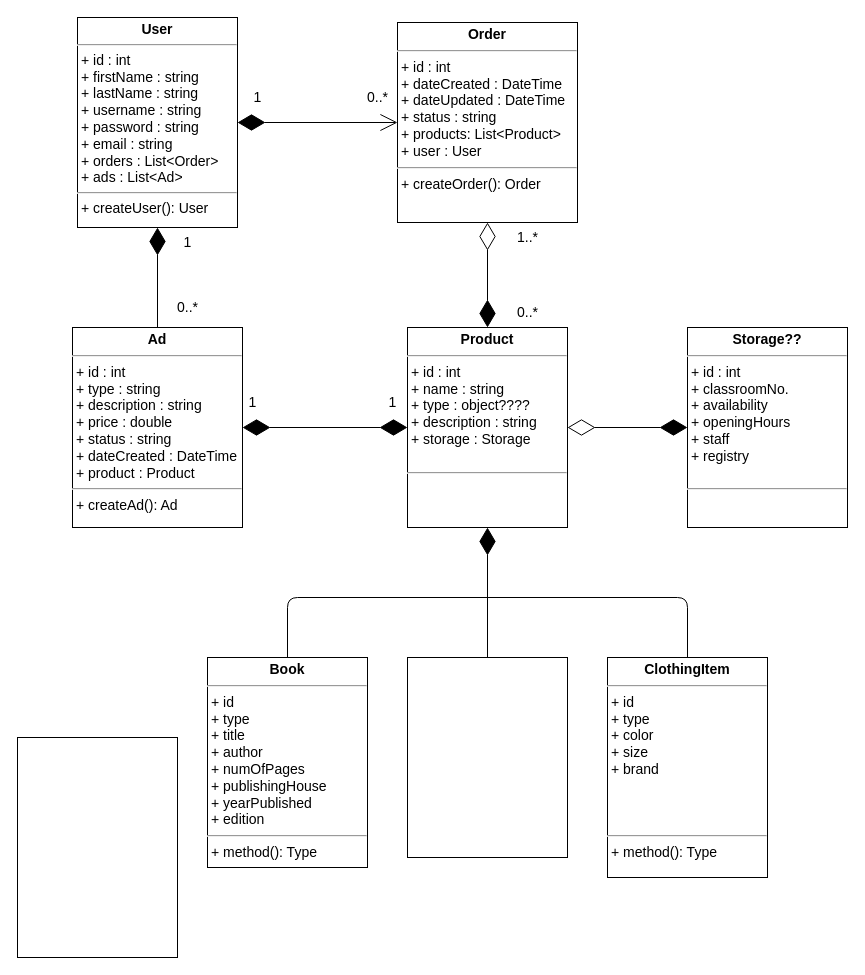
This 865x975 diagram has some shape labels left out. Each missing label, with the centre of its shape:
"Category??? + id : int + name : string + method(): Type" goes at point (97, 847).
"IT + id + type + model + year + method(): Type" goes at point (487, 757).
